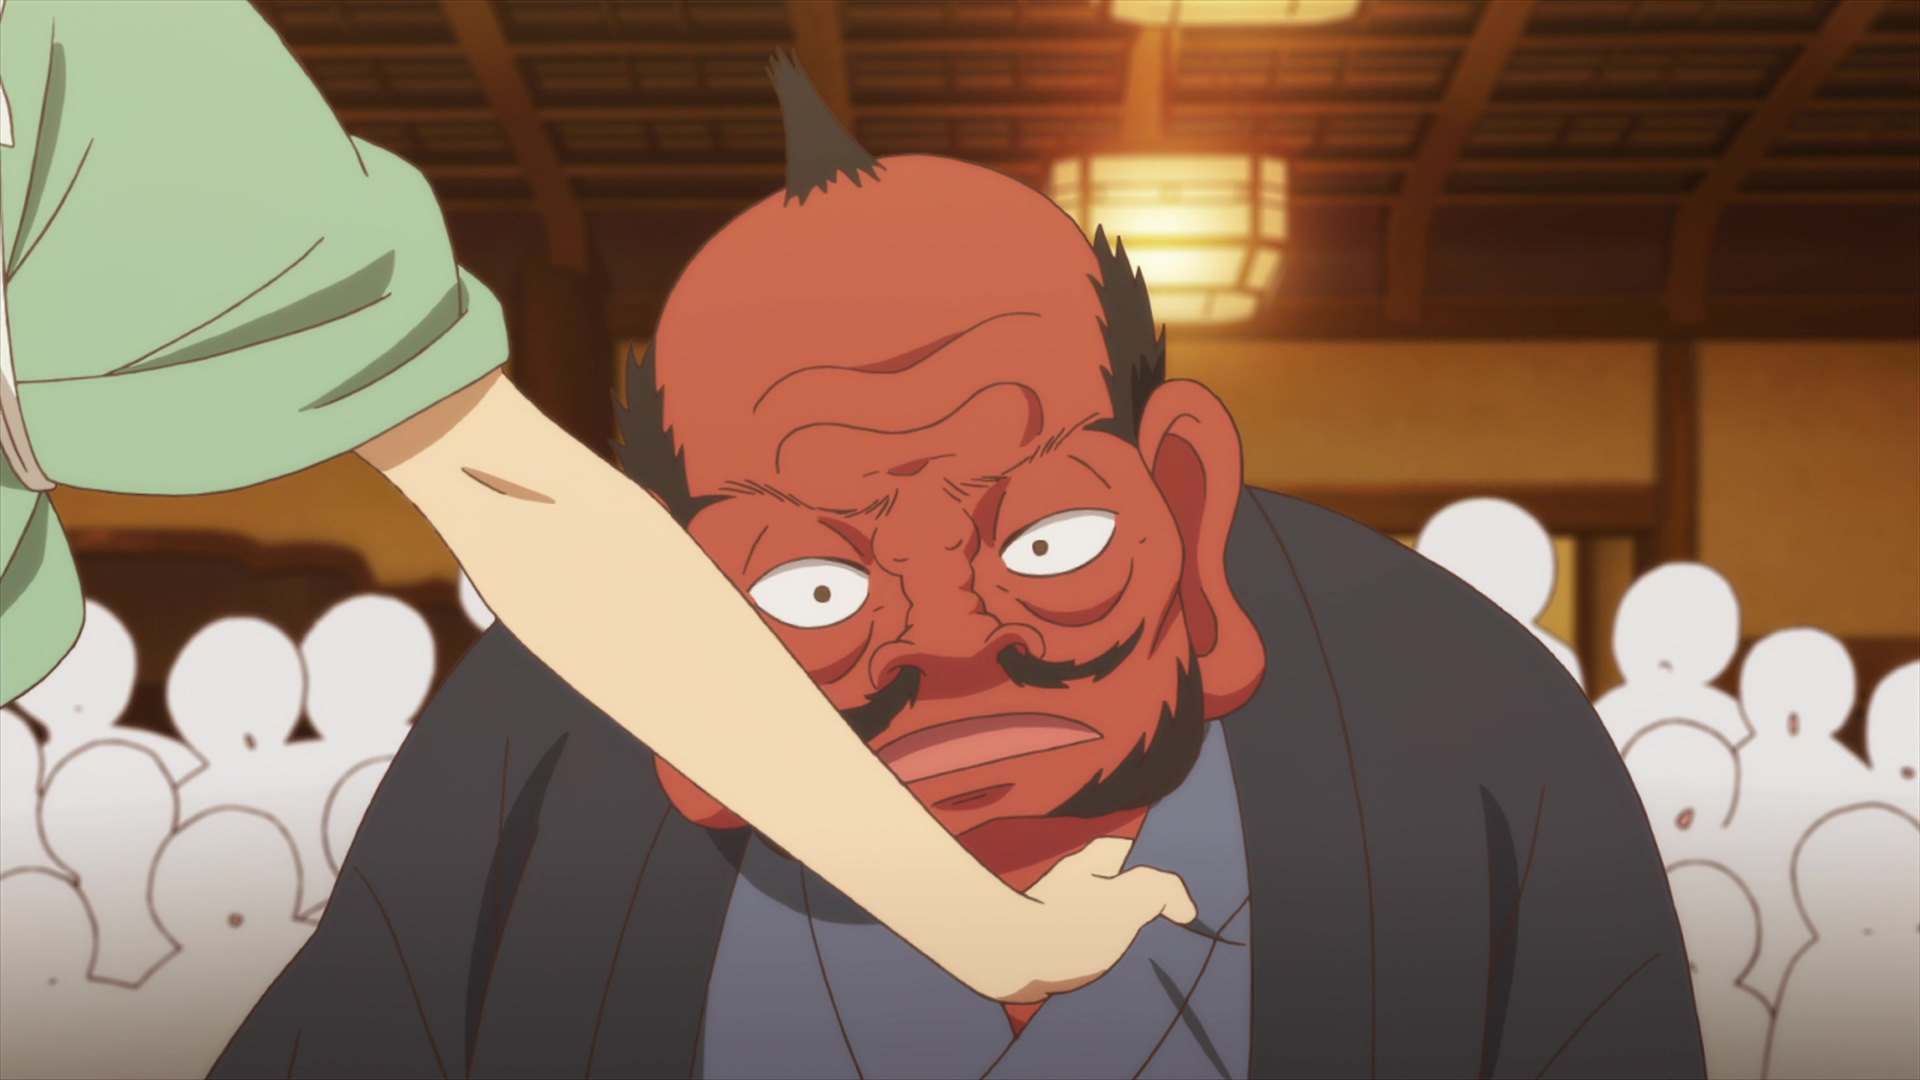其他: (204, 55, 1704, 1080)
